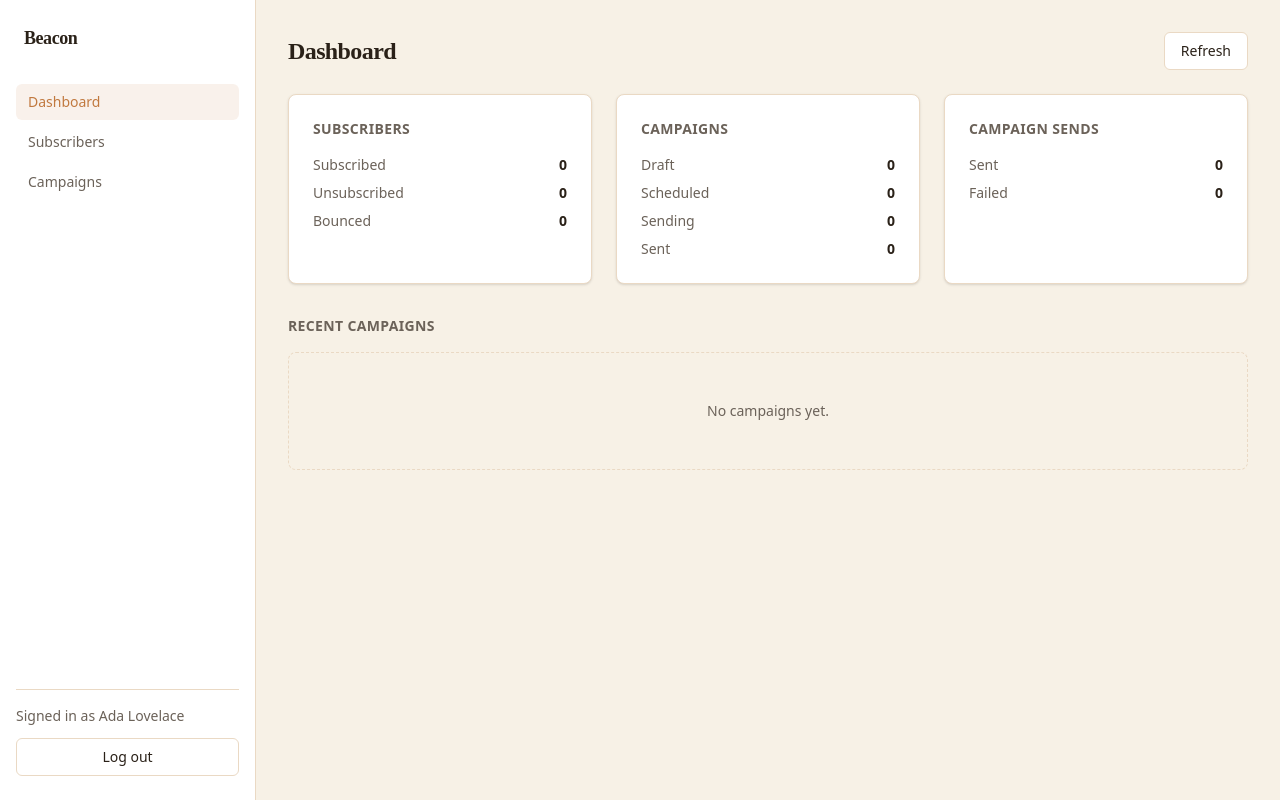
it: AppLayout › logs out and redirects to /login when Log out is clicked
Check: the text "Signed in as Ada Lovelace" is shown, box [16,706,184,725]
Click the button "Log out": (128, 757) [16,738,239,776]
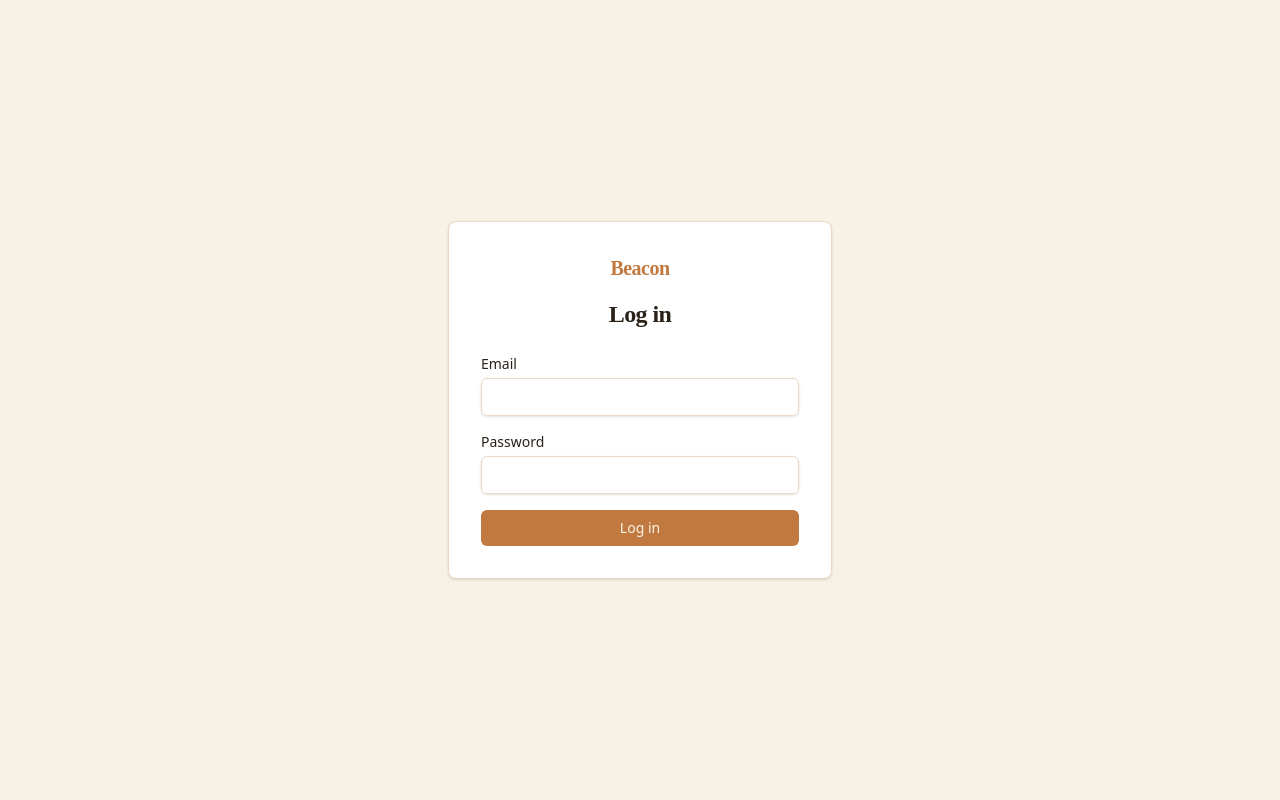
Check: the heading "Log in" is shown, box [609,301,671,327]
